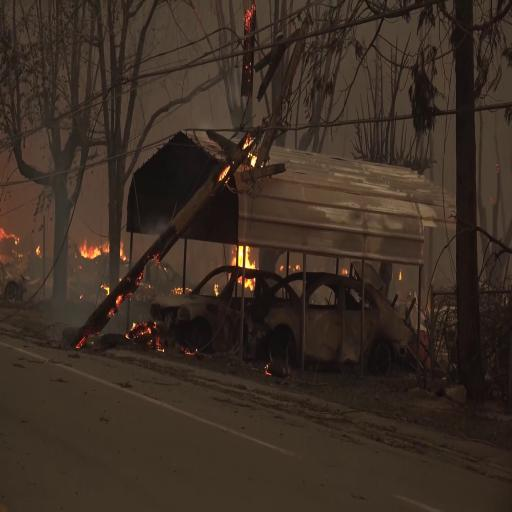fire: (74, 232, 125, 268), (230, 234, 262, 286)
